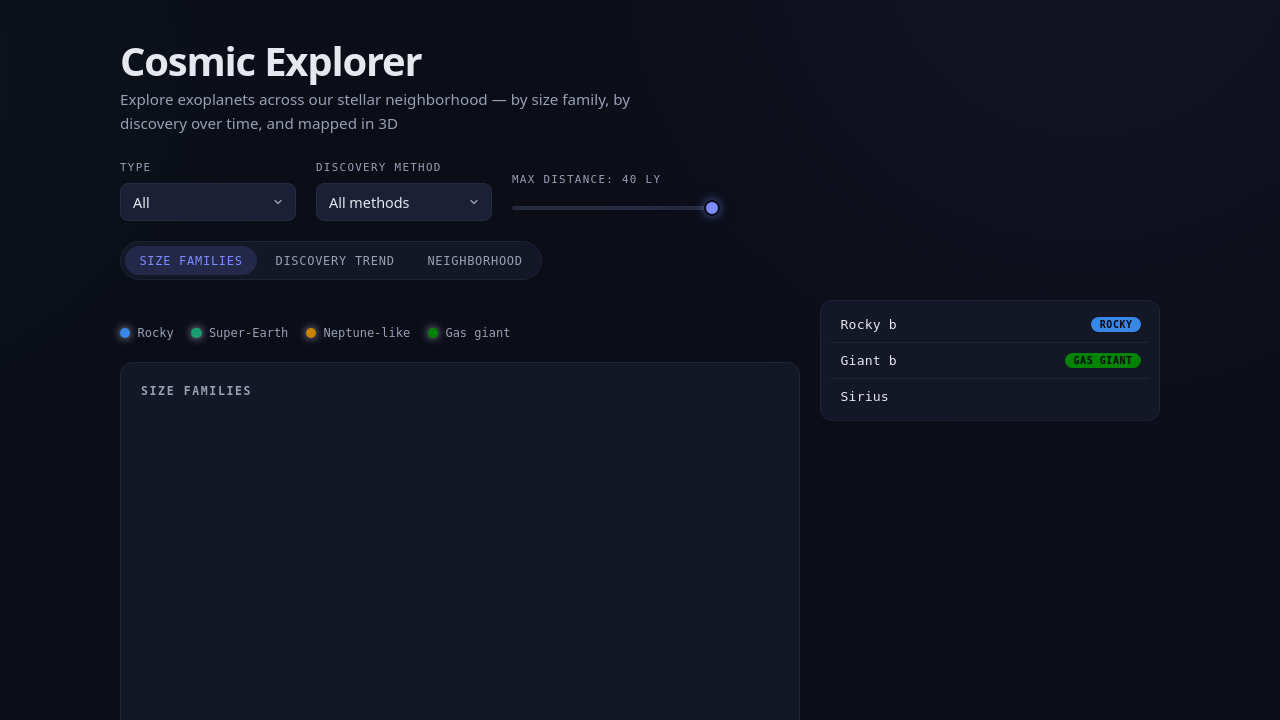
App › closes the detail drawer when a filter change excludes the selected body
Click the button "Giant b Gas giant" at [869, 361], box [831,343,1149,379]
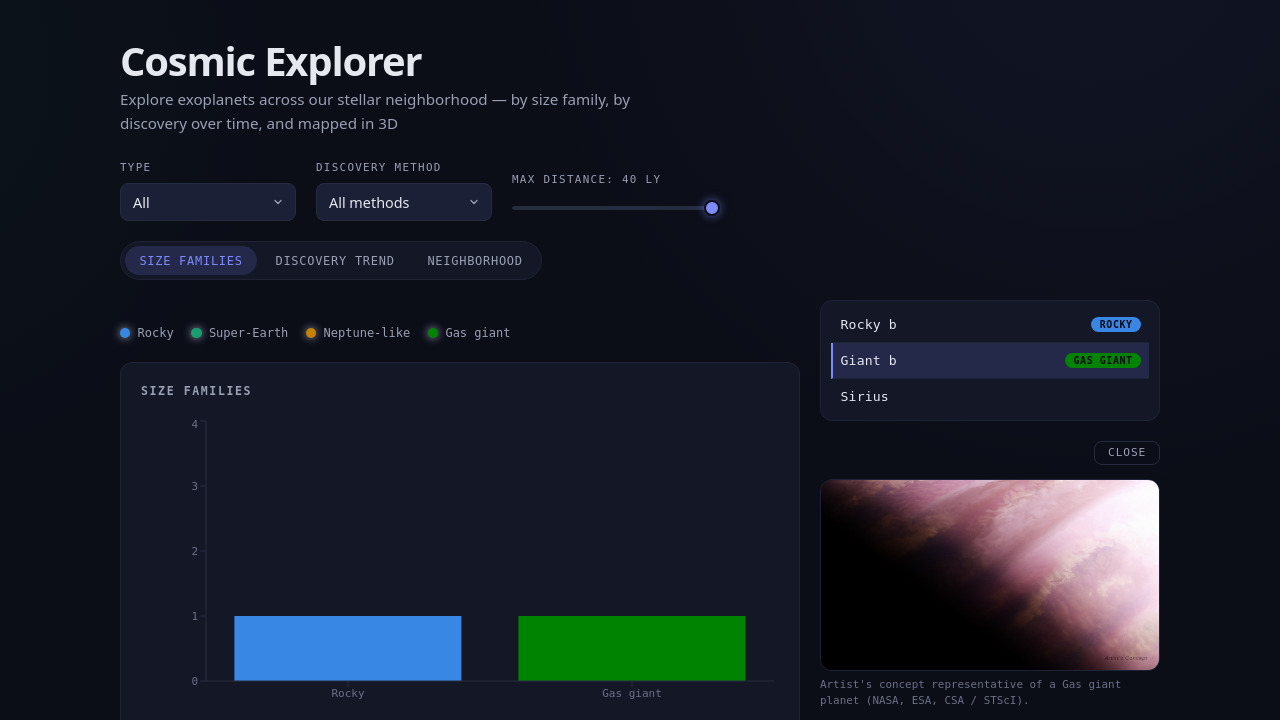
Select "Stars" in the dropdown labelled "Type" at [208, 202], box [120,183,296,221]
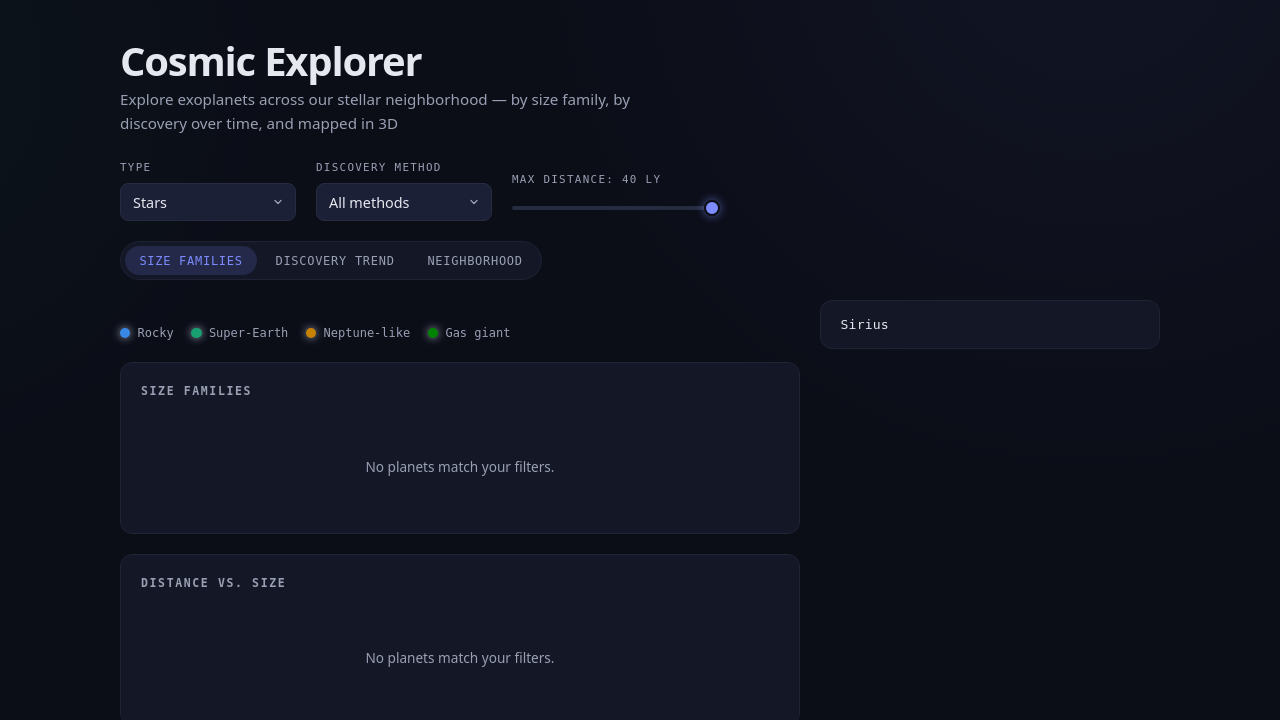
Now the button "Giant b" is gone
